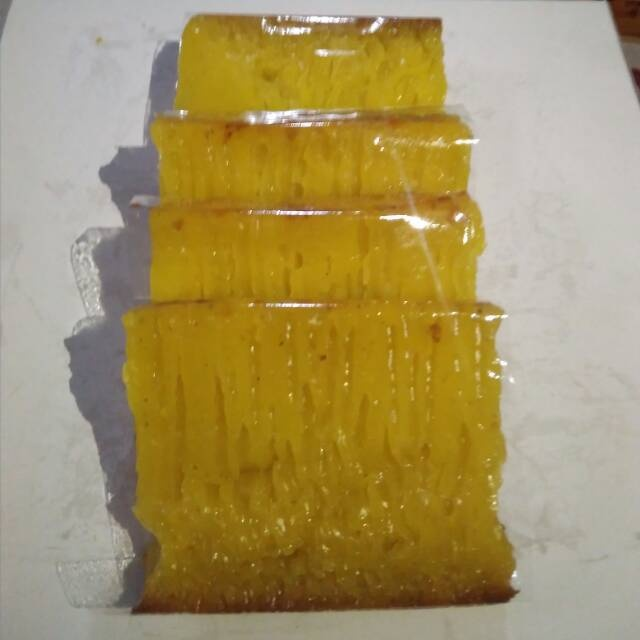bika_ambon: (95, 280, 534, 625), (126, 183, 506, 399), (131, 83, 481, 266)
